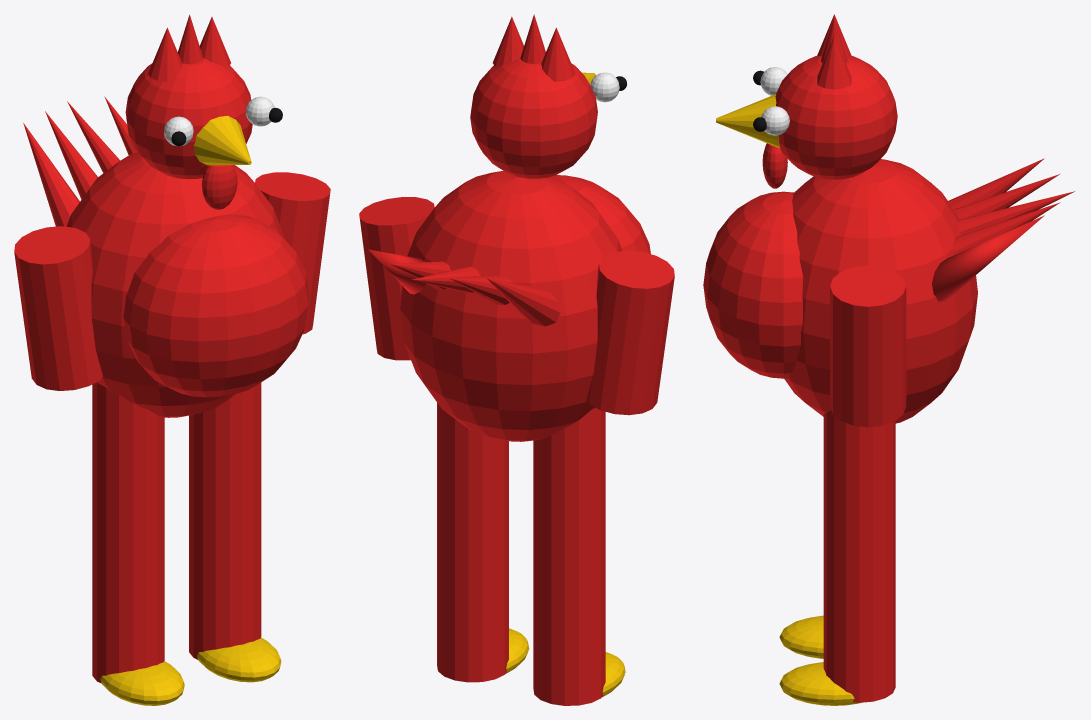
Rendered from gallo_parts.glb.
The picture shows the model from 3 angles, left to right: view 1: azimuth 30°, elevation 25°; view 2: azimuth 150°, elevation 25°; view 3: azimuth 270°, elevation 25°; orthographic projection.
Parts seen in each view (by area): view 1: gallo_torso, gallo_leg_r, gallo_leg_l, gallo_head, gallo_arm_r, gallo_arm_l; view 2: gallo_torso, gallo_leg_r, gallo_leg_l, gallo_head, gallo_arm_r, gallo_arm_l; view 3: gallo_torso, gallo_leg_l, gallo_head, gallo_arm_l, gallo_leg_r.
Part boxes in pixels (<box>): gallo_torso: <box>23,96,309,417</box>; gallo_leg_r: <box>92,382,184,705</box>; gallo_leg_l: <box>189,382,281,682</box>; gallo_head: <box>125,14,282,179</box>; gallo_arm_r: <box>14,226,102,390</box>; gallo_arm_l: <box>255,172,330,334</box>; gallo_torso: <box>368,170,650,441</box>; gallo_leg_r: <box>533,407,625,705</box>; gallo_leg_l: <box>437,402,529,682</box>; gallo_head: <box>470,14,626,178</box>; gallo_arm_r: <box>586,250,674,415</box>; gallo_arm_l: <box>359,197,434,360</box>; gallo_torso: <box>703,143,1075,423</box>; gallo_leg_l: <box>779,410,895,705</box>; gallo_head: <box>716,14,897,179</box>; gallo_arm_l: <box>830,265,906,427</box>; gallo_leg_r: <box>779,615,823,658</box>.
Bounding box in the file's own units: 0.8256 × 1.72 × 0.8833.
